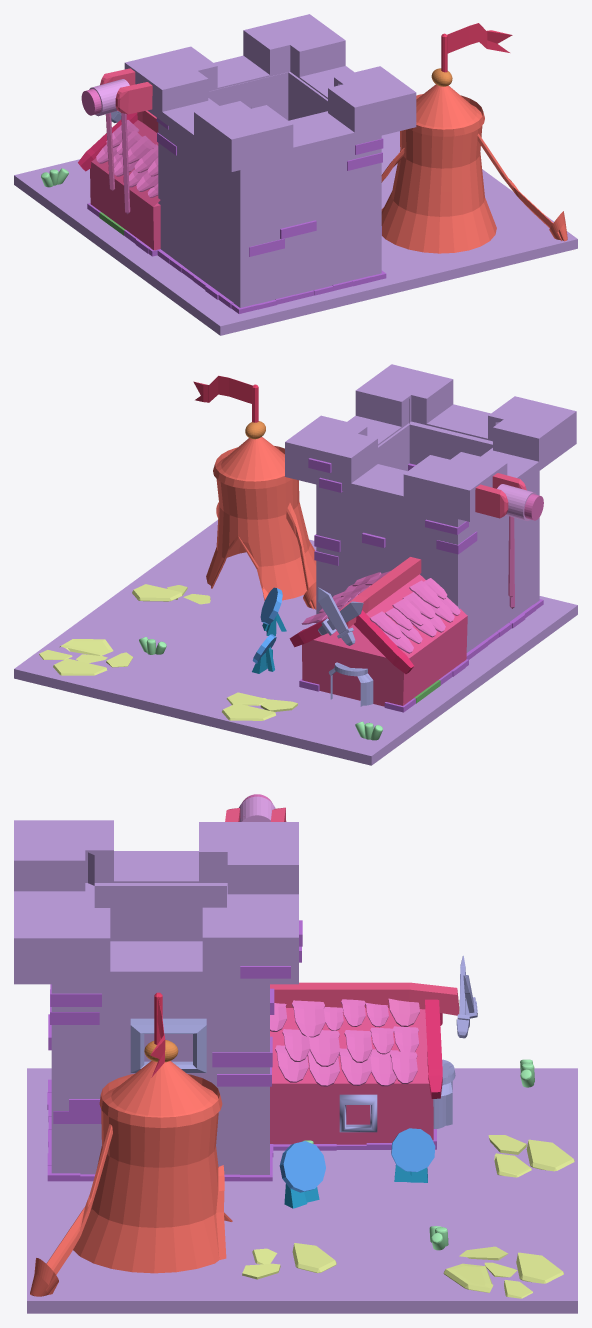
File: hello.glb
The picture shows the model from 3 angles, top to bottom: view 1: azimuth 30°, elevation 25°; view 2: azimuth 150°, elevation 25°; view 3: azimuth 270°, elevation 25°; orthographic projection. The views are drawn at different scales.
Parts seen in each view (by area): view 1: Plane, Circle.001, Plane.001, Plane.057, Plane.053, Cube.037, Cylinder.011, Plane.054, Cube, Plane.055, Plane.020, Cylinder.010 (+1 smaller); view 2: Plane, Circle.001, Plane.001, Cube, Cube.001, Plane.057, Plane.052, Cylinder, Plane.051, Cylinder.011, Plane.058, Plane.061 (+5 smaller); view 3: Plane, Circle.001, Plane.001, Cube.001, Cube.003, Circle, Circle.002, Cube, Cube.037, Plane.058, Cube.002, Plane.061 (+20 smaller).
Boxes of the visible parts, left/top/right/bottom form: Plane: left=14, top=14, right=577, bottom=335; Circle.001: left=381, top=84, right=496, bottom=253; Plane.001: left=90, top=120, right=160, bottom=250; Plane.057: left=447, top=23, right=512, bottom=53; Plane.053: left=115, top=82, right=152, bottom=114; Cube.037: left=477, top=133, right=553, bottom=228; Cylinder.011: left=89, top=79, right=129, bottom=116; Plane.054: left=121, top=113, right=130, bottom=214; Cube: left=78, top=112, right=137, bottom=171; Plane.055: left=105, top=113, right=114, bottom=190; Plane.020: left=128, top=135, right=155, bottom=163; Cylinder.010: left=81, top=89, right=101, bottom=115; Plane: left=14, top=364, right=577, bottom=765; Circle.001: left=206, top=437, right=316, bottom=600; Plane.001: left=302, top=574, right=467, bottom=706; Cube: left=289, top=610, right=413, bottom=674; Cube.001: left=339, top=557, right=421, bottom=628; Plane.057: left=193, top=375, right=252, bottom=403; Plane.052: left=475, top=484, right=508, bottom=518; Cylinder: left=328, top=662, right=373, bottom=706; Plane.051: left=318, top=587, right=355, bottom=645; Cylinder.011: left=497, top=484, right=536, bottom=520; Plane.058: left=222, top=703, right=275, bottom=720; Plane.061: left=53, top=658, right=107, bottom=675; Plane: left=14, top=820, right=577, bottom=1313; Circle.001: left=73, top=1061, right=232, bottom=1273; Plane.001: left=270, top=1008, right=433, bottom=1144; Cube.001: left=270, top=982, right=459, bottom=1015; Cube.003: left=130, top=1018, right=206, bottom=1072; Circle: left=279, top=1141, right=325, bottom=1192; Circle.002: left=391, top=1128, right=435, bottom=1172; Cube: left=425, top=999, right=442, bottom=1098; Cube.037: left=46, top=1124, right=112, bottom=1274; Plane.058: left=526, top=1139, right=574, bottom=1171; Cube.002: left=339, top=1094, right=377, bottom=1132; Plane.061: left=516, top=1252, right=563, bottom=1283.
Bounding box in the file's own units: 9.22 × 4.53 × 8.35.
